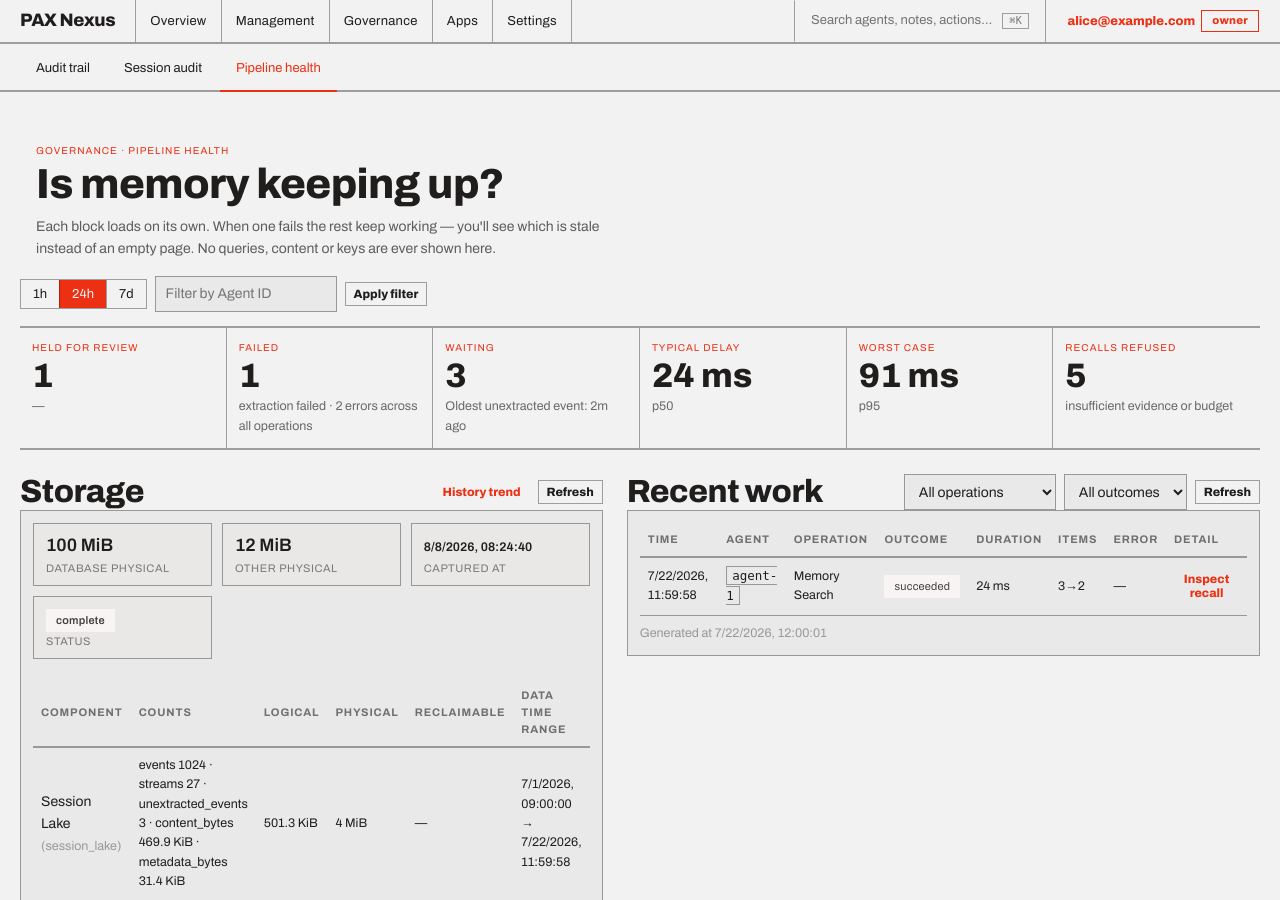
Test: section 12 item 12: recall drawer lifecycle for 404, 410 and 500 › 500 stays region-local with a manual retry that recovers
Expected: the heading "Is memory keeping up?" is shown, [36,161,504,207]
Click the button "Inspect recall": (1207, 586) [1174,567,1239,606]
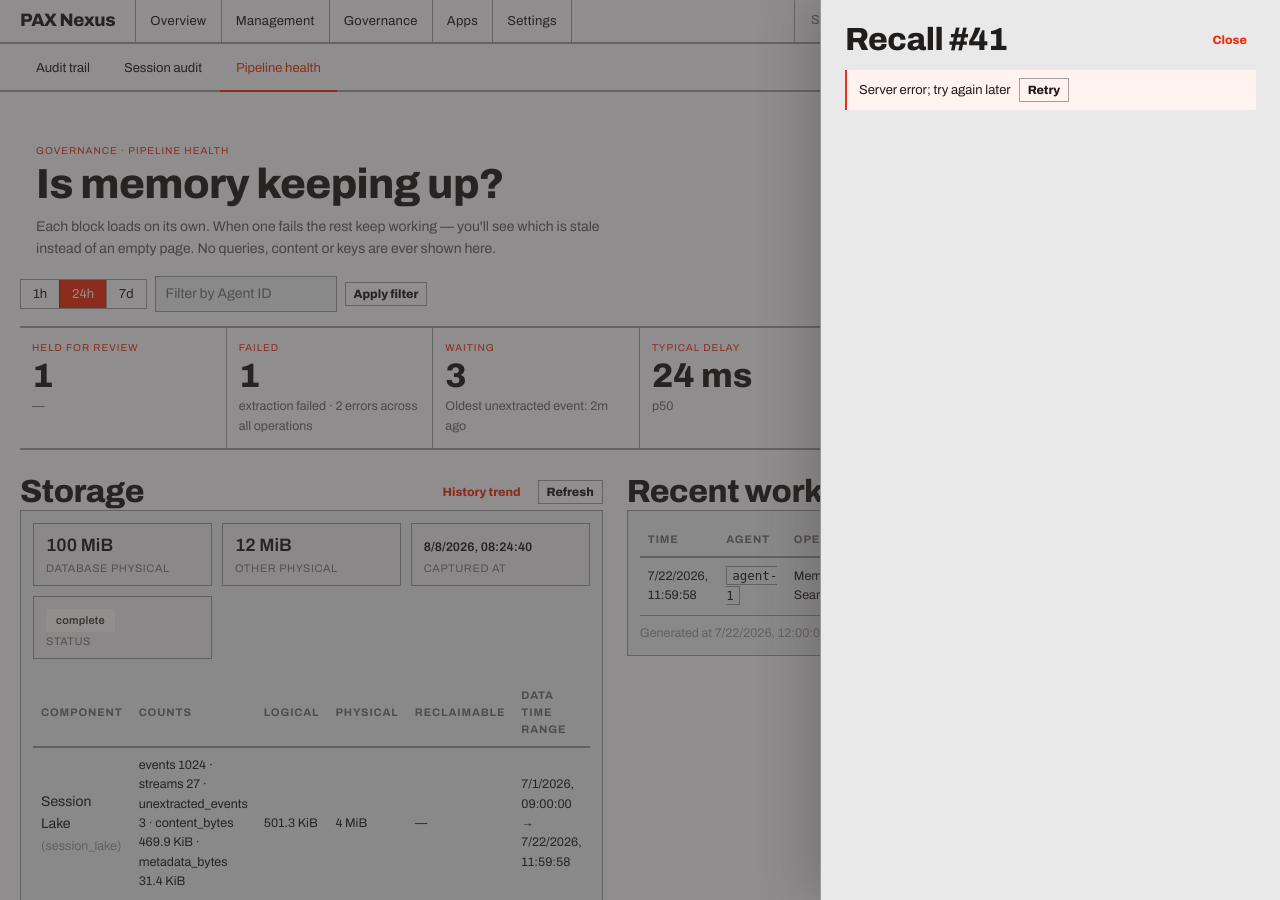
Result: the text "Server error; try again later" is shown at [859,80,1011,100]
Click the button "Retry": (1044, 90) [1019,78,1069,102]
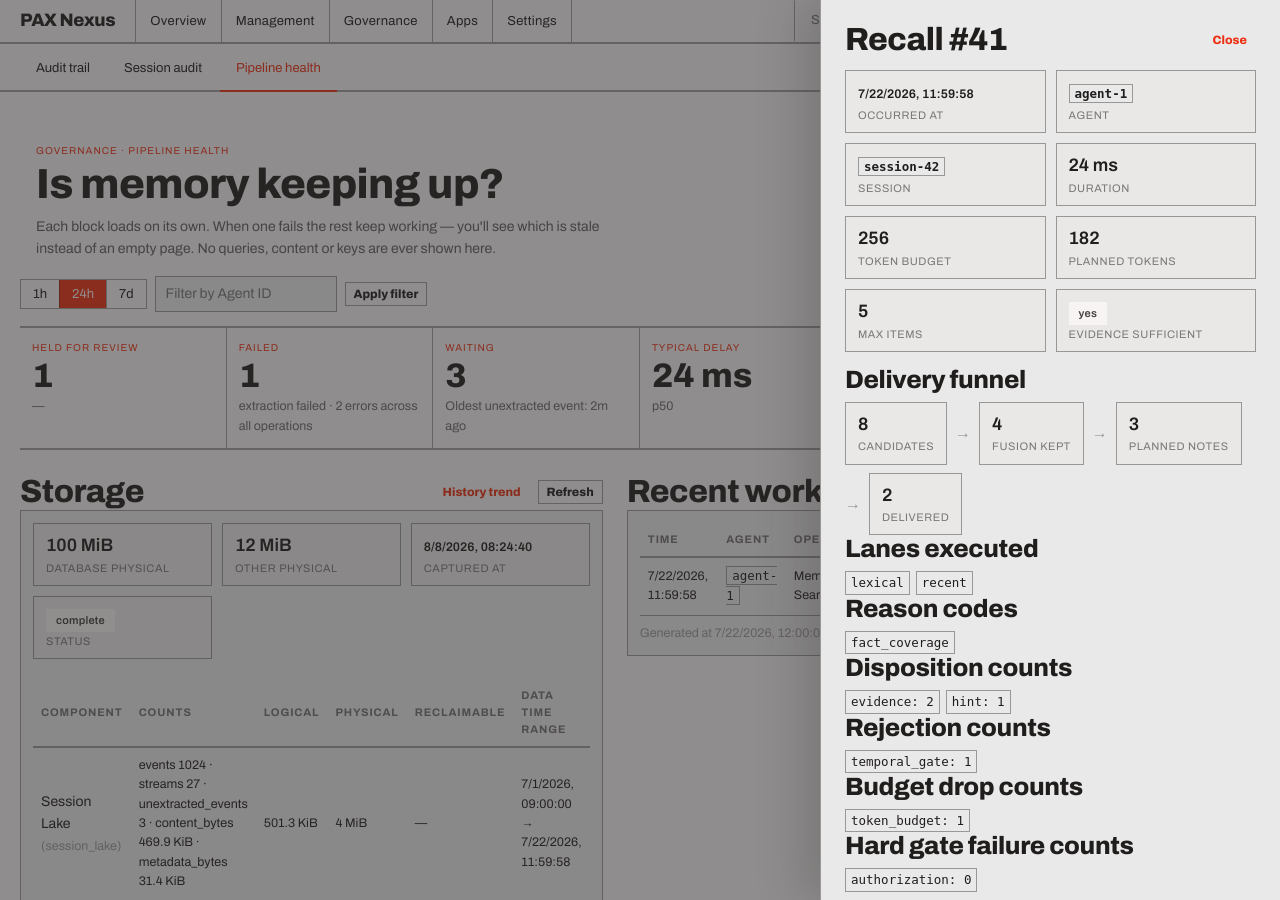
Result: the heading "Delivery funnel" is shown at [845,366,1026,393]
